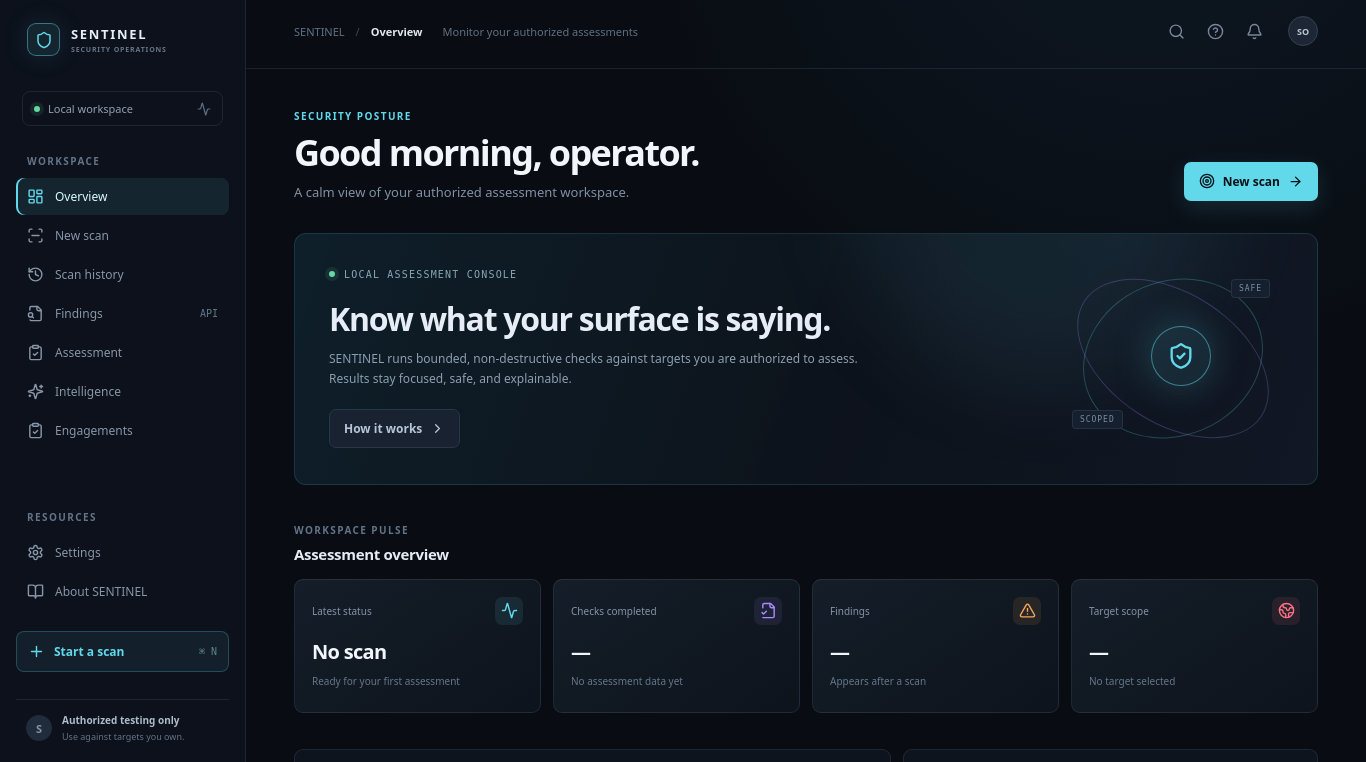
Scenario: SENTINEL dashboard flows › passes one successful API response through detail, findings, assessment, and intelligence views
The width and height of the screenshot is (1366, 762).
Step 1. Click the button "New scan" below "Local workspace" → (122, 236), box [16,217,229,254]
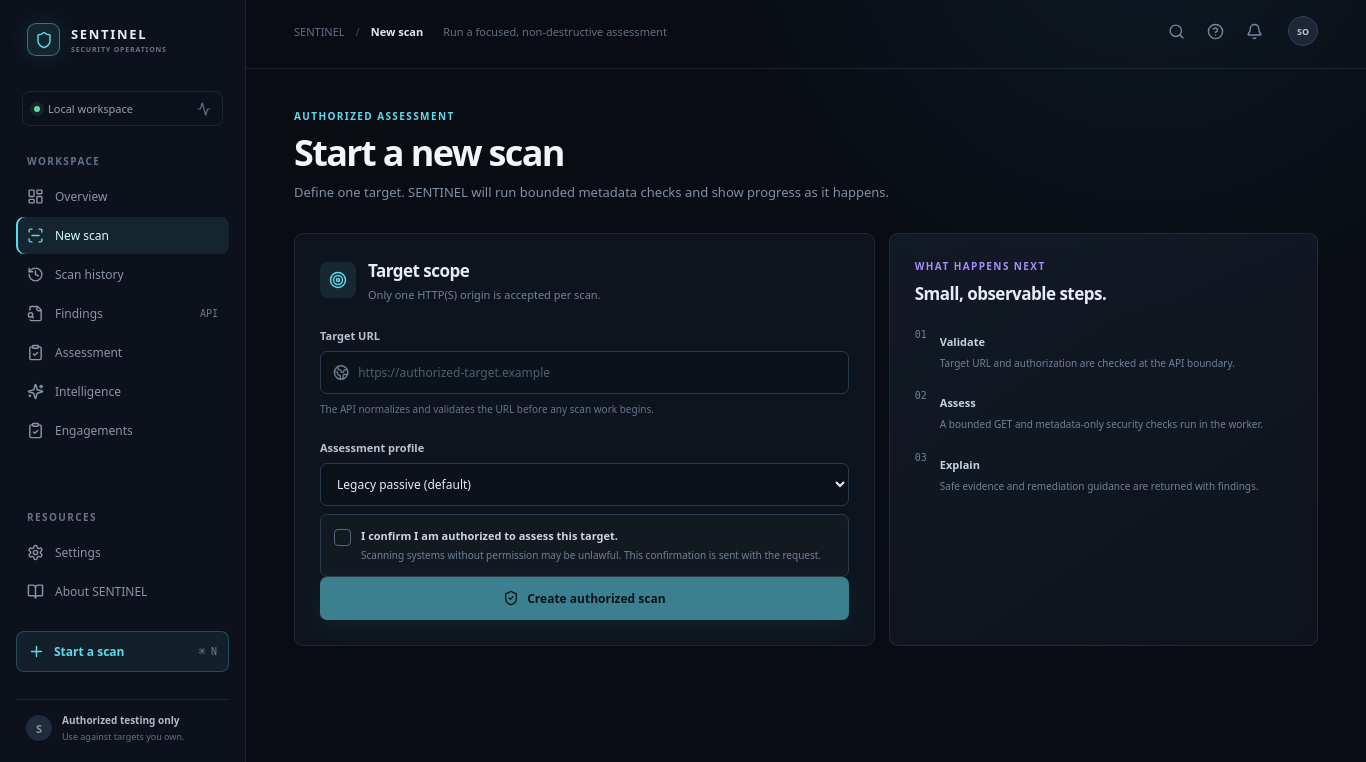
Step 2. Type "https://findings.fixture/" into the field labelled "Target URL" → (597, 372), box [358,352,836,393]
Step 3. Click the checkbox → (584, 545), box [320,514,849,577]
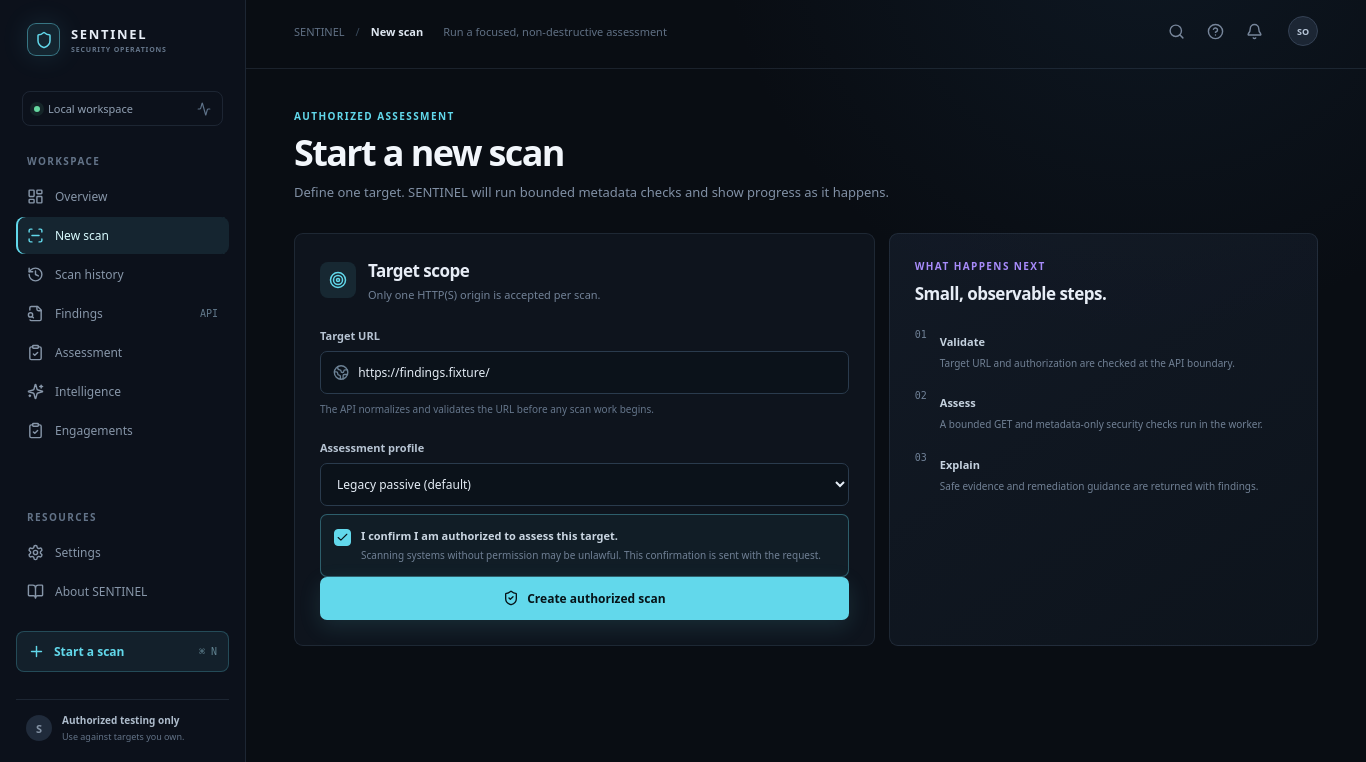
Step 4. Click the button "Create authorized scan" → (584, 598), box [320,577,849,620]
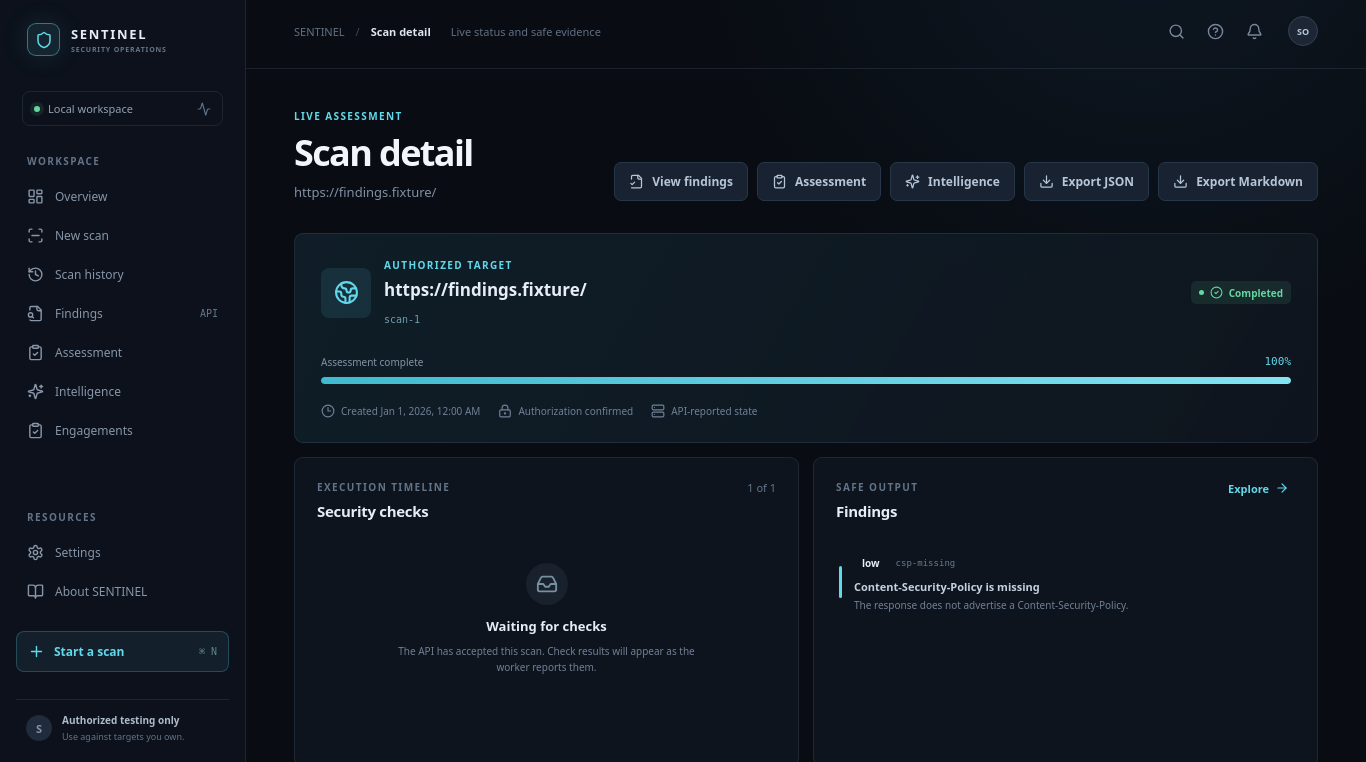
Now the heading "https://findings.fixture/" is shown, box [384,278,587,301]
Step 5. Click the button "View findings" → (681, 181), box [614,162,748,201]
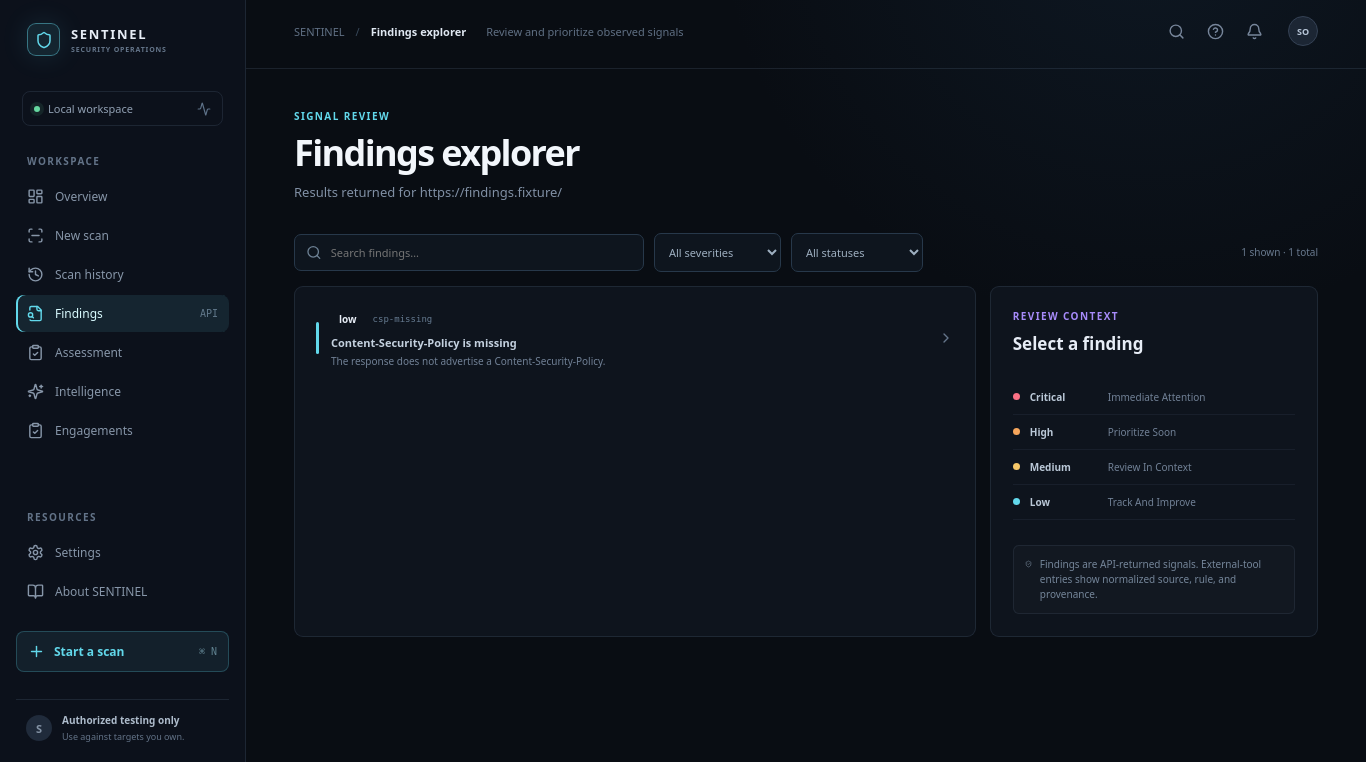
Now the text "Content-Security-Policy is missing" is shown, box [331,335,517,350]
Step 6. Click the button "Assessment" → (122, 352), box [16,334,229,371]
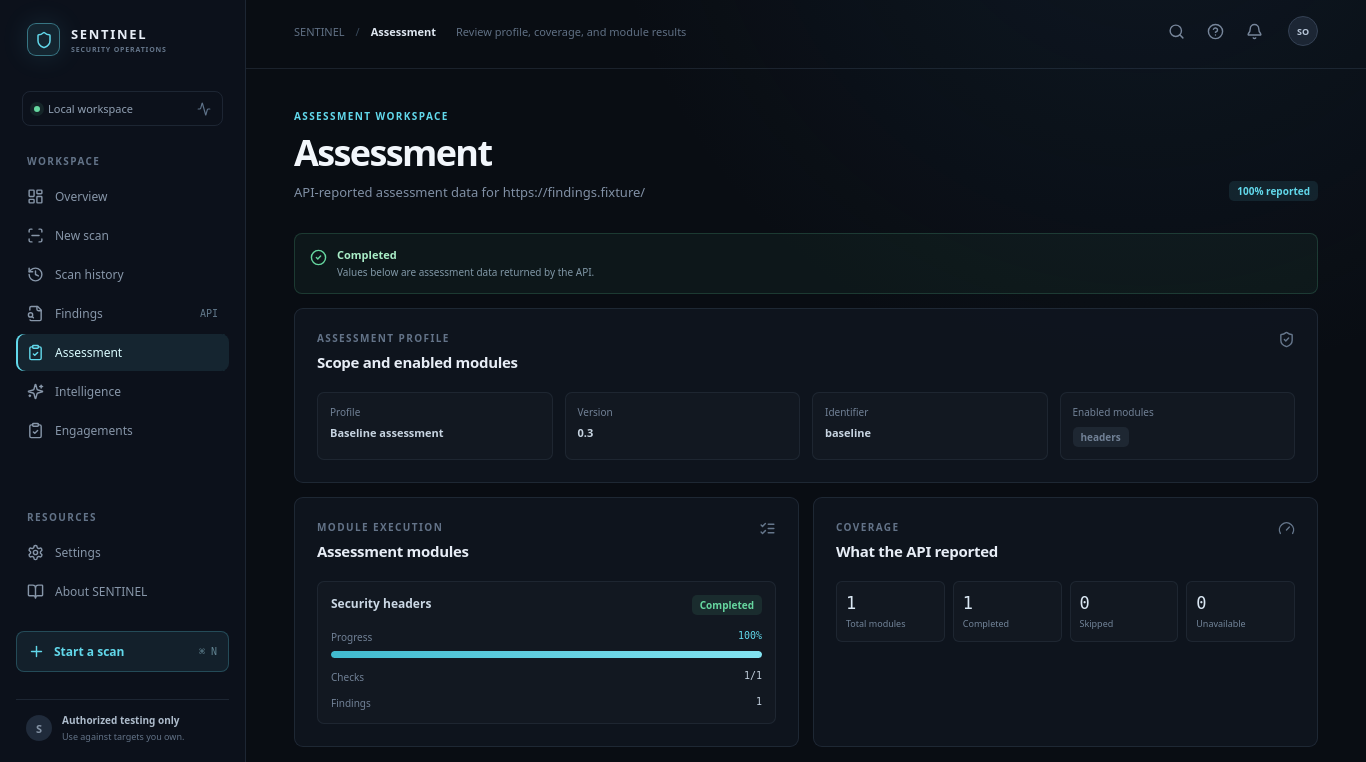
Now the text "Baseline assessment" is shown, box [330,425,444,440]
Step 7. Click the button "Intelligence" → (122, 392), box [16,373,229,410]
(page scrolled)
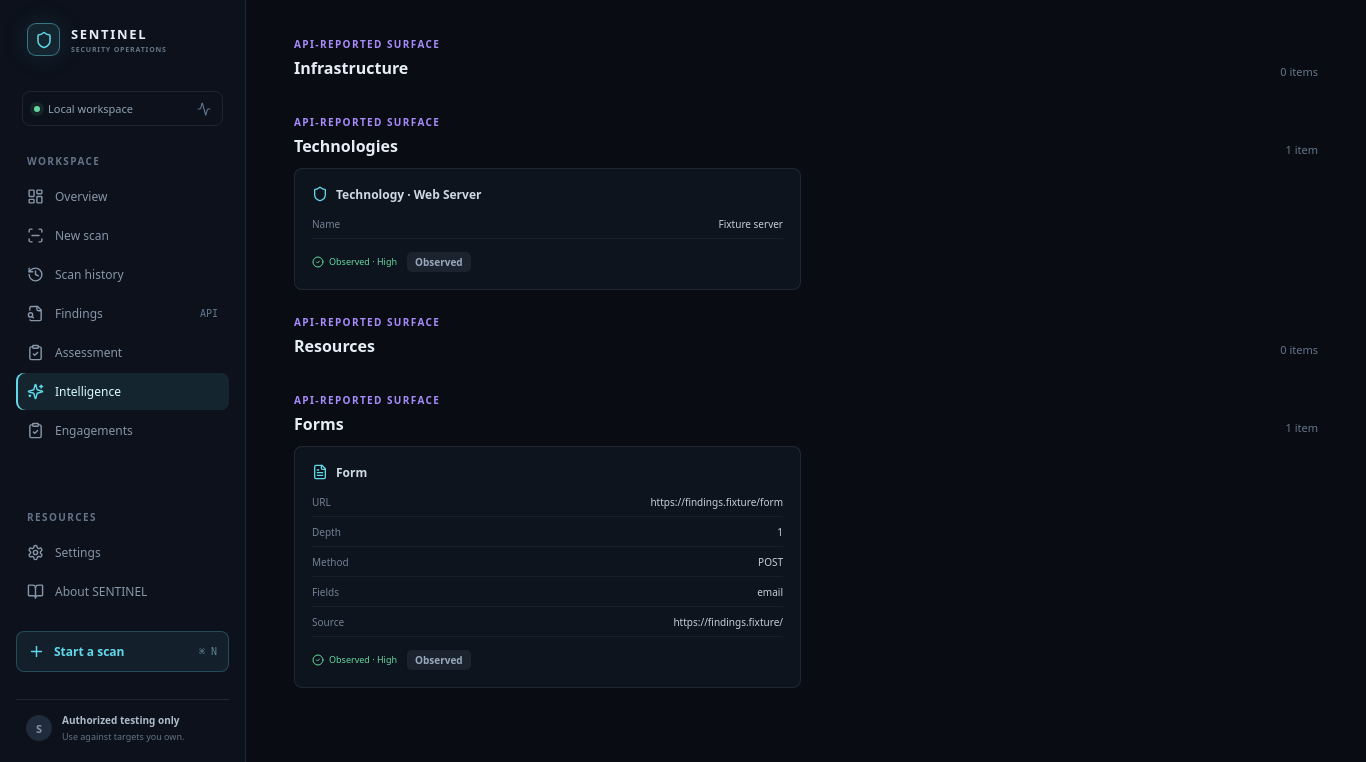
Now the text "Fixture server" is shown, box [719,217,783,231]
Now the text "https://findings.fixture/form" is shown, box [650,495,783,509]
